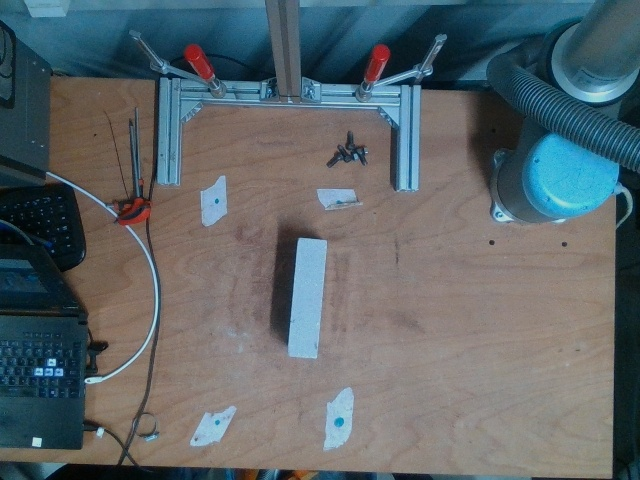brick-side: (285, 237, 326, 359)
